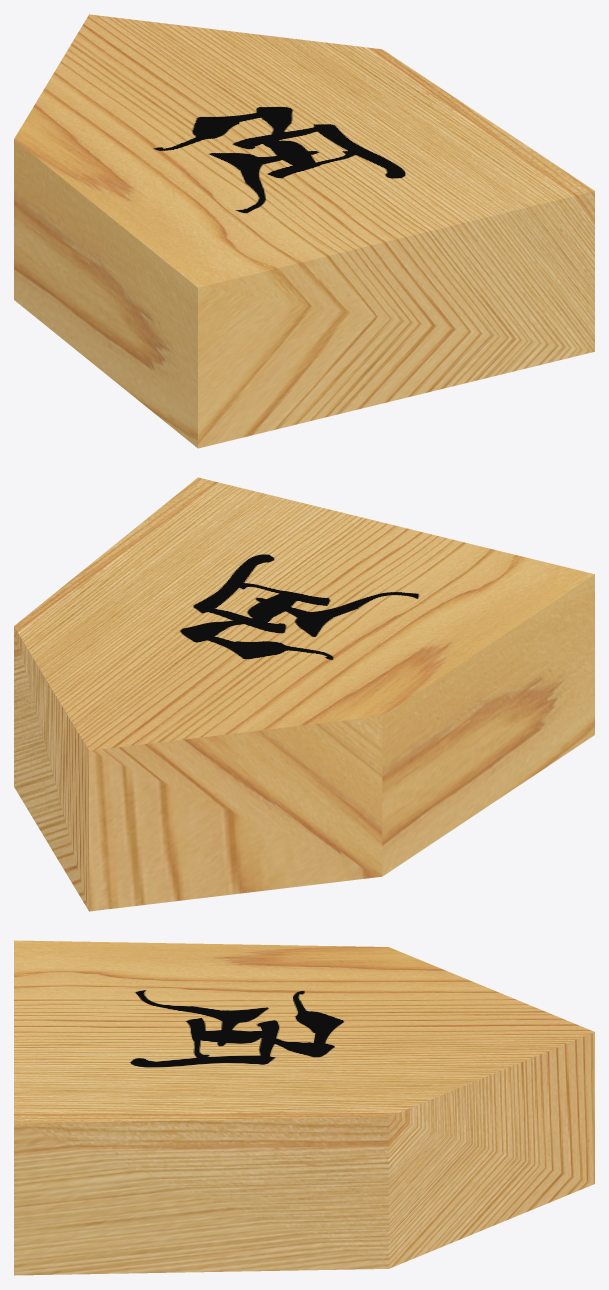
Rendered from koma_kaku.gltf.
The picture shows the model from 3 angles, top to bottom: view 1: azimuth 30°, elevation 25°; view 2: azimuth 150°, elevation 25°; view 3: azimuth 270°, elevation 25°; orthographic projection. The views are drawn at different scales.
Visible parts, largest first — view 1: Cylinder; view 2: Cylinder; view 3: Cylinder.
Boxes of the visible parts, left/top/right/bottom form: Cylinder: left=14, top=14, right=594, bottom=448; Cylinder: left=14, top=477, right=594, bottom=911; Cylinder: left=14, top=940, right=594, bottom=1275.
Bounding box in the file's own units: 1.29 × 0.5 × 1.73.
Materials: 1 (1 with a texture image).
